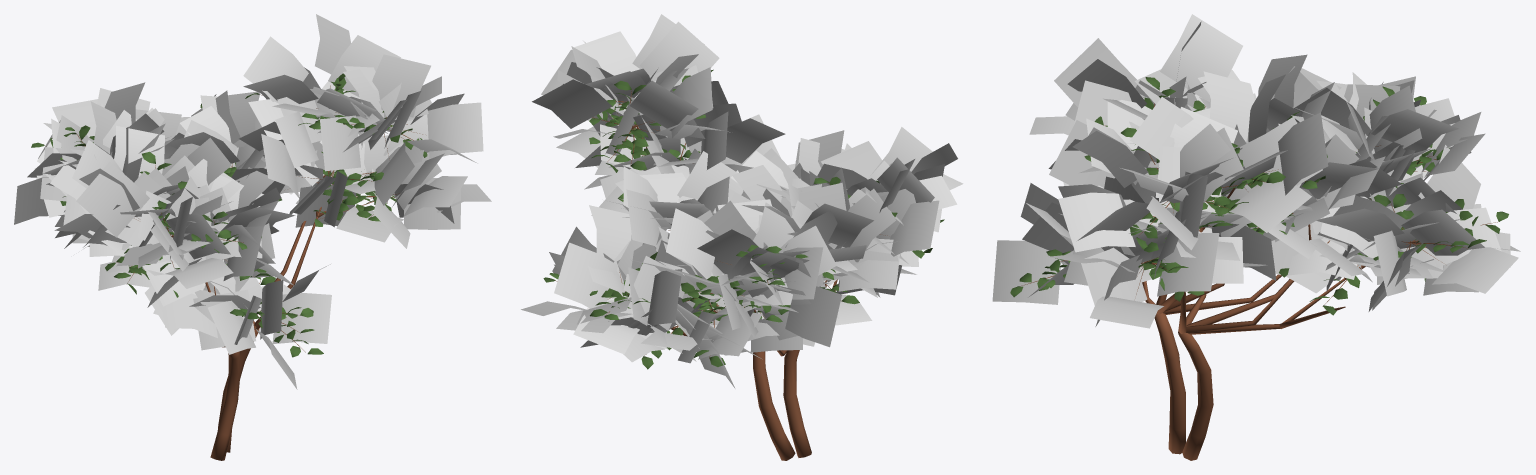
File: Arbousier_Bifurque_LOD0.fbx
3 views of the same model, side by side, from view 1: azimuth 30°, elevation 25°; view 2: azimuth 150°, elevation 25°; view 3: azimuth 270°, elevation 25° (orthographic). The views are drawn at different scales.
Parts seen in each view (by area): view 1: Arbousier_Bifurque; view 2: Arbousier_Bifurque; view 3: Arbousier_Bifurque.
Part boxes in pixels (<box>): Arbousier_Bifurque: <box>14,14,491,460</box>; Arbousier_Bifurque: <box>521,14,963,460</box>; Arbousier_Bifurque: <box>992,14,1520,460</box>.
Bounding box in the file's own units: 395 × 356 × 393.
